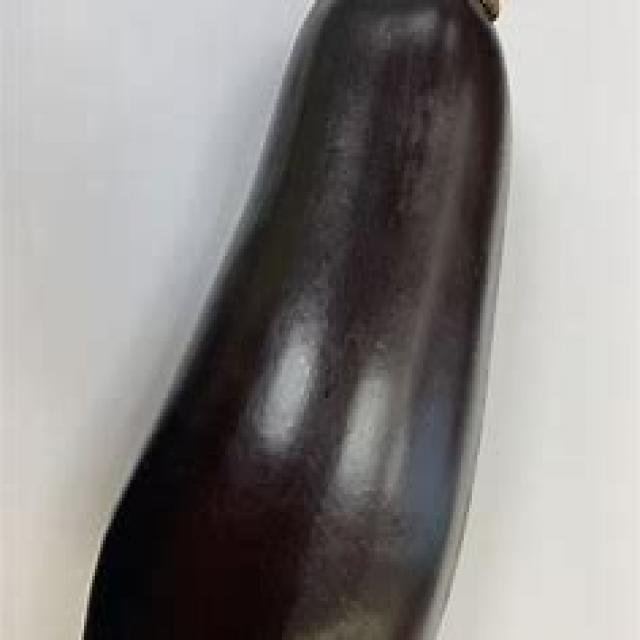Eggplant: (79, 0, 518, 640)
